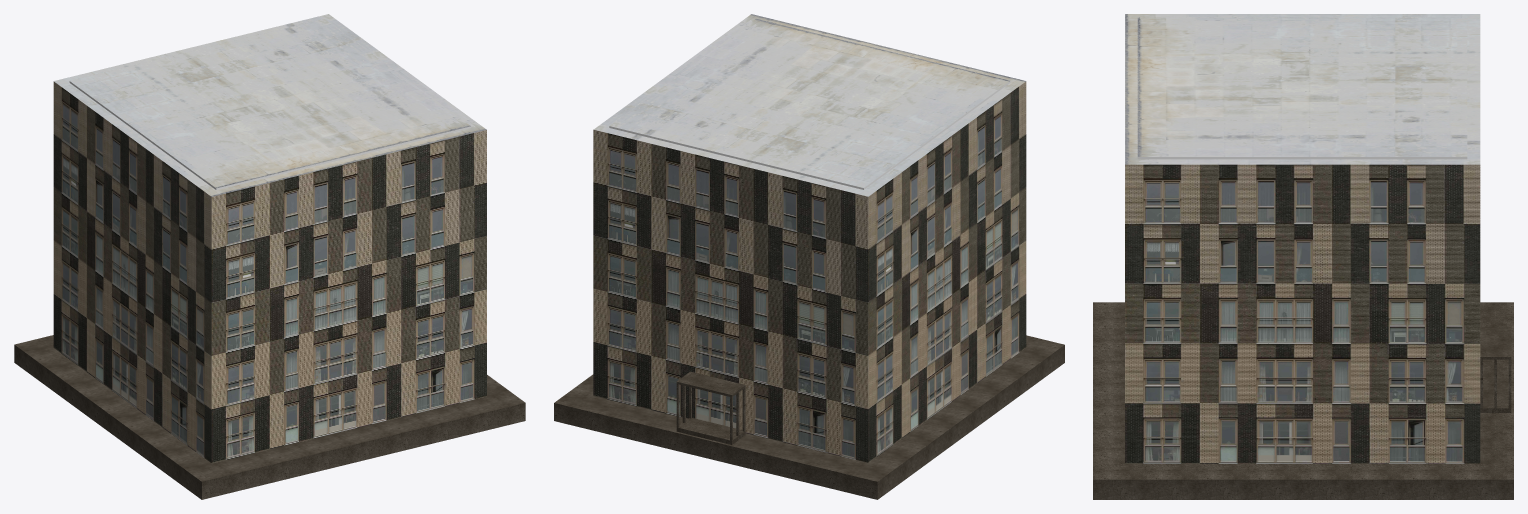
Rendered from BagSS04base_0.fbx.
3 renders of one model, left to right at view 1: azimuth 30°, elevation 25°; view 2: azimuth 150°, elevation 25°; view 3: azimuth 270°, elevation 25°, orthographic. The views are drawn at different scales.
Visible parts, largest first — view 1: baseBox0, BaseFloor0, base_base0, baseRoof0; view 2: baseBox0, BaseFloor0, base_base0, baseRoof0; view 3: baseBox0, BaseFloor0, base_base0, baseRoof0.
Part boxes in pixels (left/top/right/bottom): baseBox0: left=53, top=81, right=486, bottom=463; BaseFloor0: left=69, top=19, right=471, bottom=190; base_base0: left=14, top=335, right=525, bottom=499; baseRoof0: left=54, top=14, right=486, bottom=196; baseBox0: left=593, top=81, right=1026, bottom=462; BaseFloor0: left=609, top=18, right=1010, bottom=189; base_base0: left=554, top=335, right=1064, bottom=499; baseRoof0: left=594, top=14, right=1025, bottom=196; baseBox0: left=1125, top=164, right=1480, bottom=463; BaseFloor0: left=1137, top=17, right=1467, bottom=159; base_base0: left=1093, top=302, right=1513, bottom=499; baseRoof0: left=1125, top=14, right=1480, bottom=164.
Size of the model in its own units: 26.1 by 22.22 by 26.17.
